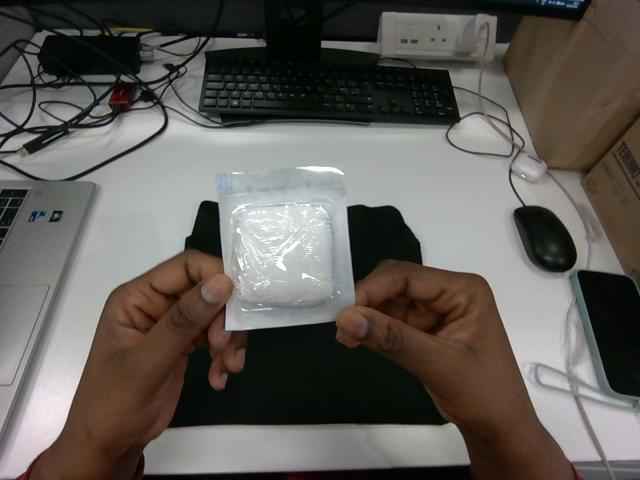gauze: (218, 167, 354, 330)
